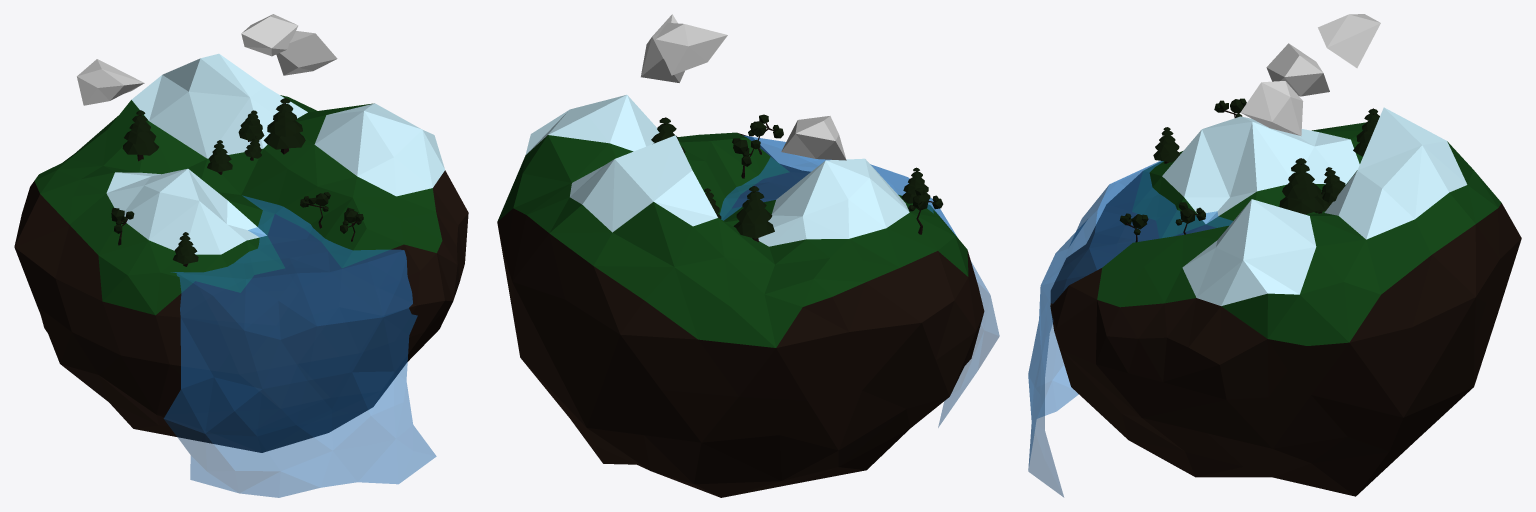
The model's file is island.obj.
3 views of the same model, side by side, from view 1: azimuth 30°, elevation 25°; view 2: azimuth 150°, elevation 25°; view 3: azimuth 270°, elevation 25° (orthographic). The views are drawn at different scales.
Parts seen in each view (by area): view 1: Mesh_1, Mesh_3, Mesh_0, Mesh_2, Mesh_5, Mesh_4; view 2: Mesh_1, Mesh_0, Mesh_2, Mesh_3, Mesh_4, Mesh_5; view 3: Mesh_1, Mesh_2, Mesh_0, Mesh_3, Mesh_4, Mesh_5.
Part boxes in pixels (x1,y1,x2,y2): Mesh_1: [14, 170, 468, 452]; Mesh_3: [164, 195, 436, 497]; Mesh_0: [34, 95, 442, 315]; Mesh_2: [106, 53, 444, 254]; Mesh_5: [111, 98, 363, 264]; Mesh_4: [77, 14, 337, 105]; Mesh_1: [497, 133, 984, 497]; Mesh_0: [497, 132, 968, 347]; Mesh_2: [525, 95, 909, 246]; Mesh_3: [720, 135, 999, 427]; Mesh_4: [641, 14, 846, 160]; Mesh_5: [651, 114, 943, 238]; Mesh_1: [1050, 171, 1521, 496]; Mesh_2: [1162, 107, 1467, 305]; Mesh_0: [1097, 122, 1501, 345]; Mesh_3: [1028, 160, 1232, 497]; Mesh_4: [1240, 14, 1380, 135]; Mesh_5: [1119, 98, 1379, 234].
Bounding box in the file's own units: 1.97 × 1.93 × 1.98.
